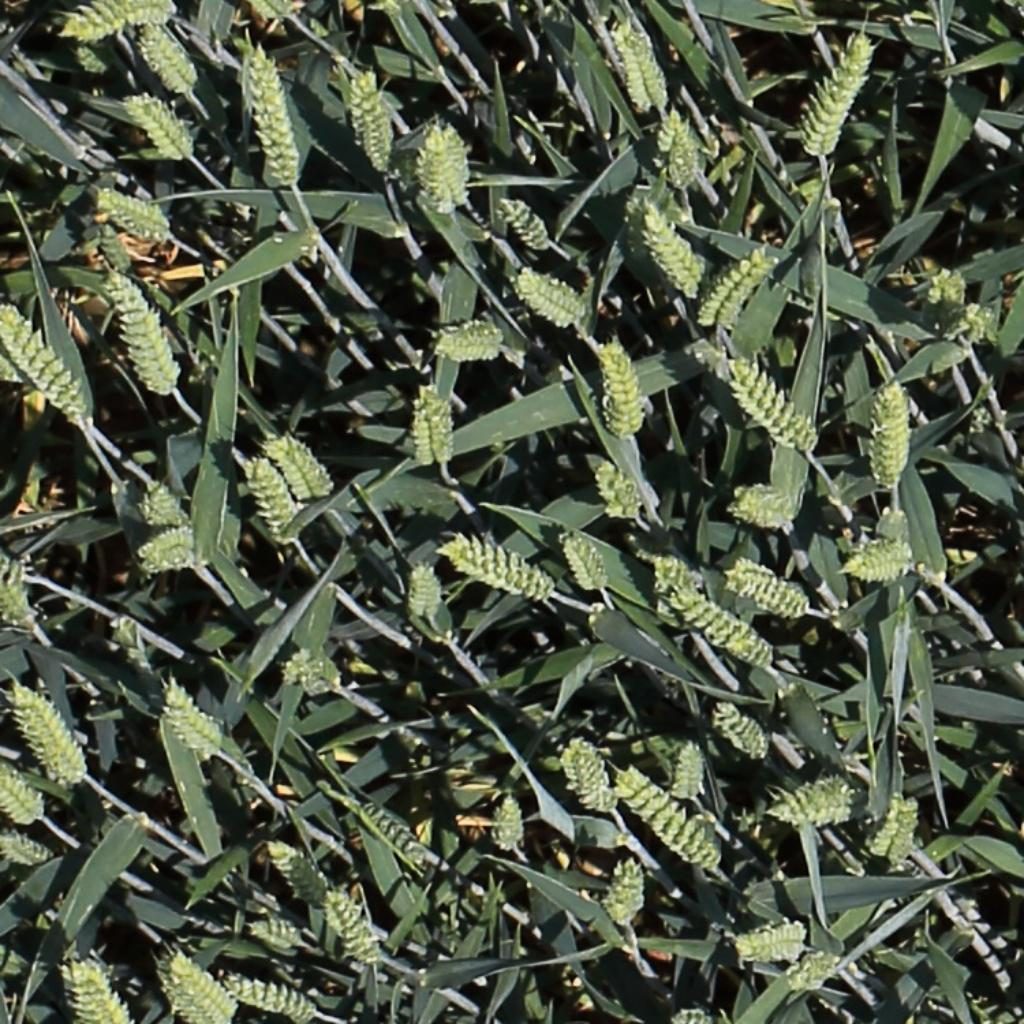0-0: (103, 263, 186, 397), (615, 770, 722, 872), (0, 305, 90, 425), (806, 31, 876, 161), (671, 589, 774, 669), (721, 356, 807, 449), (12, 679, 86, 787), (638, 197, 705, 300), (442, 540, 552, 598), (56, 948, 138, 1024), (700, 247, 775, 330), (720, 553, 812, 615), (131, 22, 205, 98), (414, 116, 471, 213), (614, 21, 669, 118), (142, 520, 222, 585), (162, 678, 225, 759), (323, 886, 383, 969), (154, 952, 223, 1023), (264, 838, 330, 912), (125, 90, 195, 159), (345, 800, 424, 860), (410, 380, 461, 472), (247, 453, 296, 548), (274, 435, 340, 503), (871, 375, 909, 491), (354, 69, 394, 176), (221, 973, 315, 1018), (602, 337, 641, 441), (721, 479, 796, 533), (836, 538, 922, 585), (711, 700, 772, 765), (432, 316, 511, 366), (729, 918, 808, 967), (517, 268, 585, 324), (495, 192, 555, 251), (569, 734, 614, 811), (99, 189, 174, 235), (561, 528, 610, 598), (658, 103, 701, 182), (595, 454, 645, 521), (601, 853, 645, 927), (919, 266, 970, 328), (92, 208, 136, 279), (140, 473, 188, 531), (0, 761, 40, 827), (877, 787, 909, 869), (950, 303, 998, 357), (0, 570, 35, 633), (245, 915, 305, 948), (787, 955, 845, 988), (0, 349, 50, 386), (679, 737, 704, 808), (498, 790, 524, 858), (410, 558, 435, 626), (0, 835, 53, 866), (70, 40, 110, 76), (244, 0, 298, 22), (0, 537, 23, 584), (673, 1010, 714, 1024)
